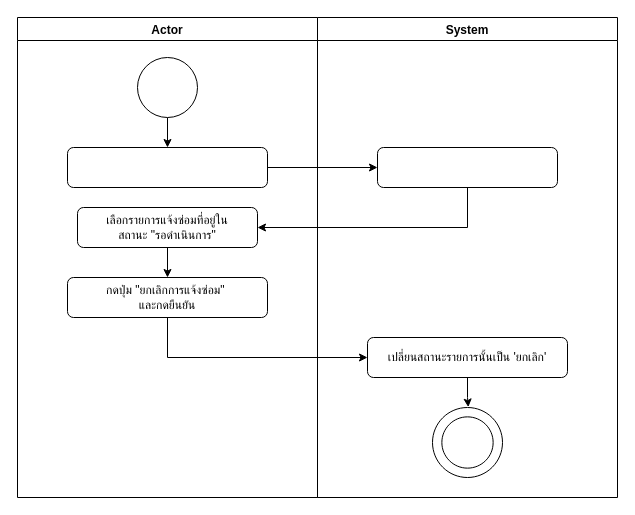
Some shapes in this 635 by 515 pixel diagram are drawn without their labels. Each missing label, with the centre of its shape:
เลือกเมนู "แจ้งซ่อม/รายการซ่อม": pixel 167 167
แสดงรายการแจ้งซ่อมปัจจุบัน และประวัติย้อนหลัง: pixel 467 167
